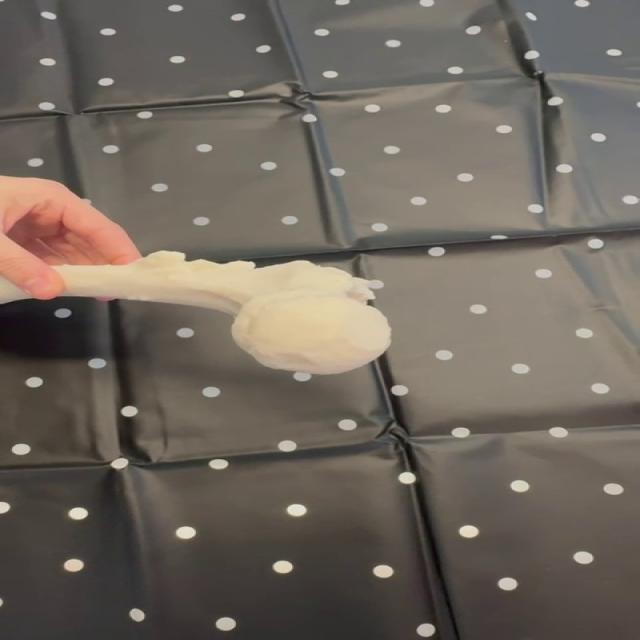bones: (55, 252, 390, 375)
